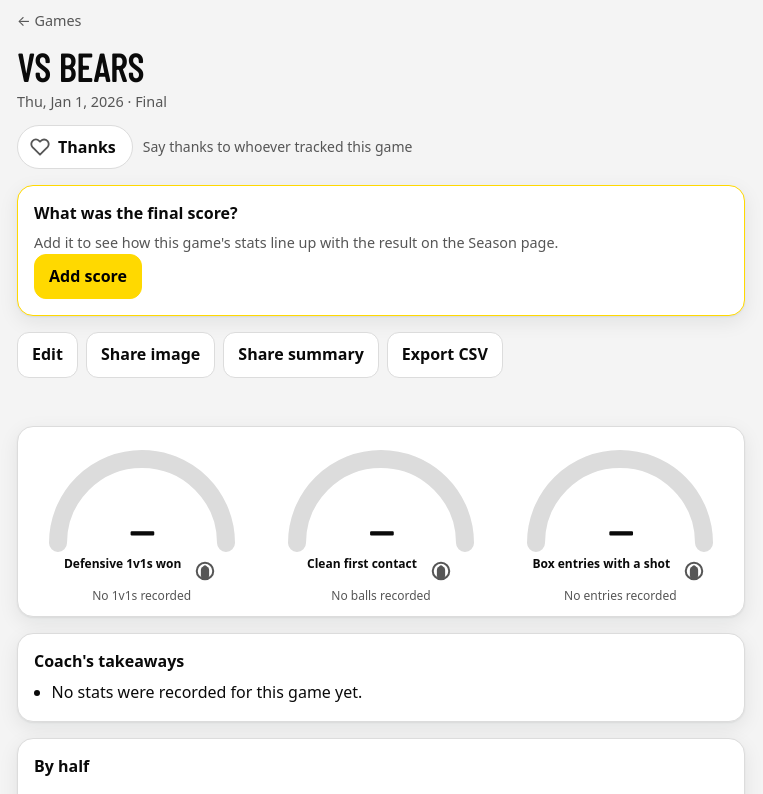
Test: GameSummaryPage › asks for the final score and saves it from the summary
This screenshot has width=763, height=794.
Click the button "Add score".
click(88, 277)  # box [34,254,142,299]
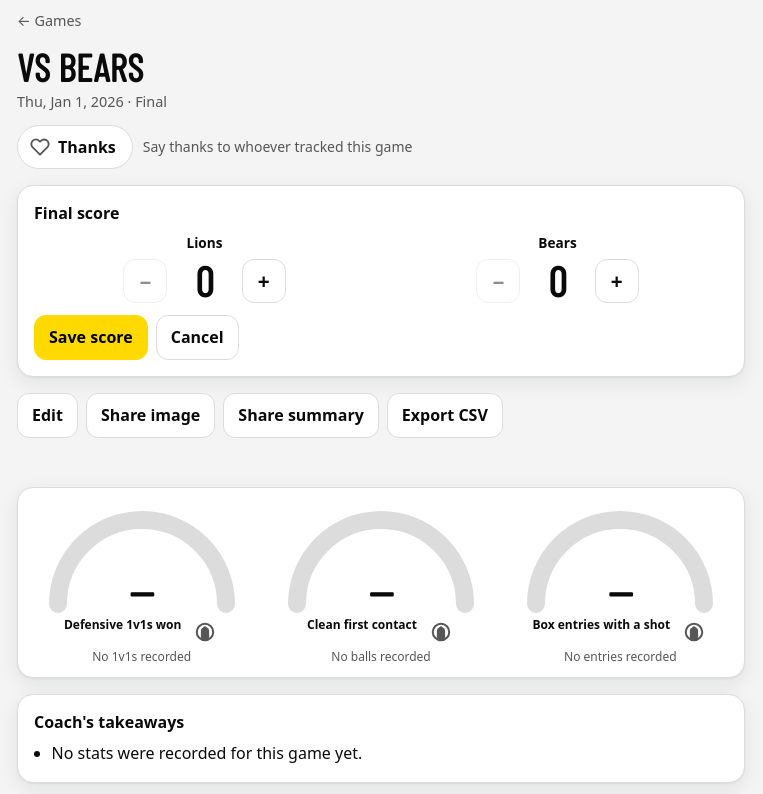
Click the button named "One more for Bears".
click(617, 281)  # box [595,259,639,303]
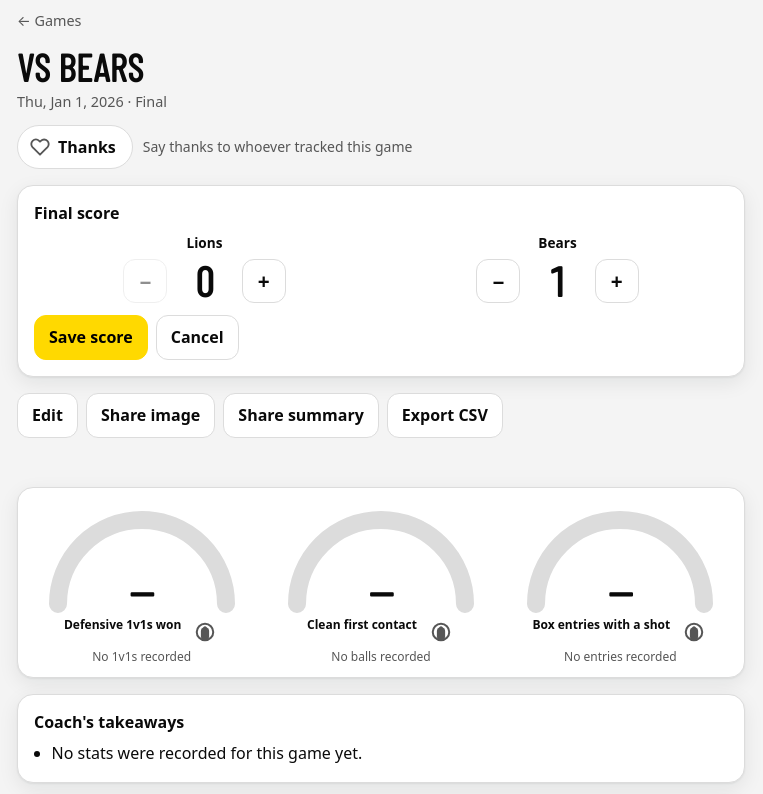
Click the button named "One more for Bears".
click(617, 281)  # box [595,259,639,303]
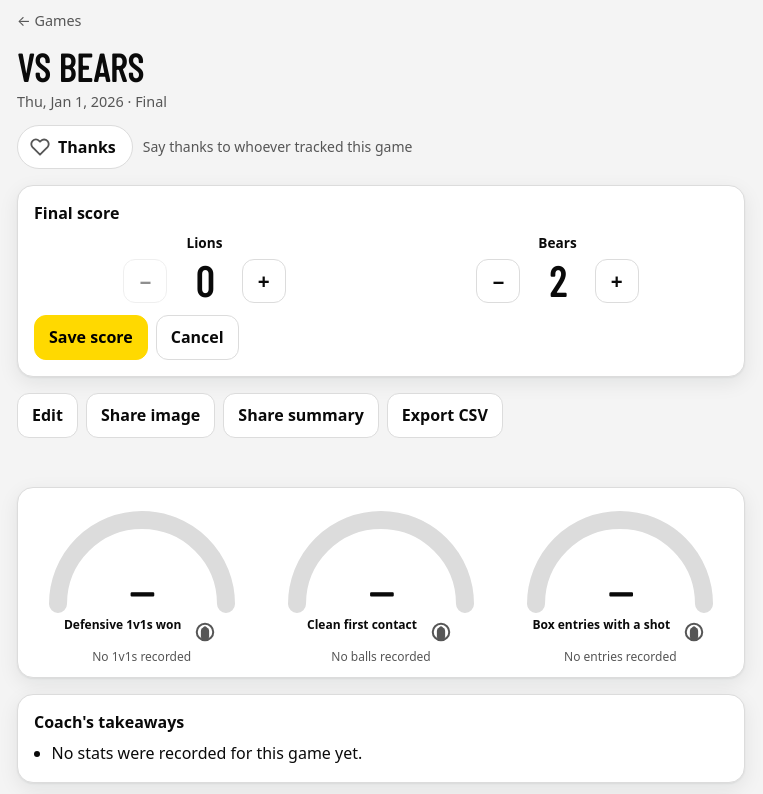
Click the button "+" below "Lions".
click(264, 281)  # box [242,259,286,303]
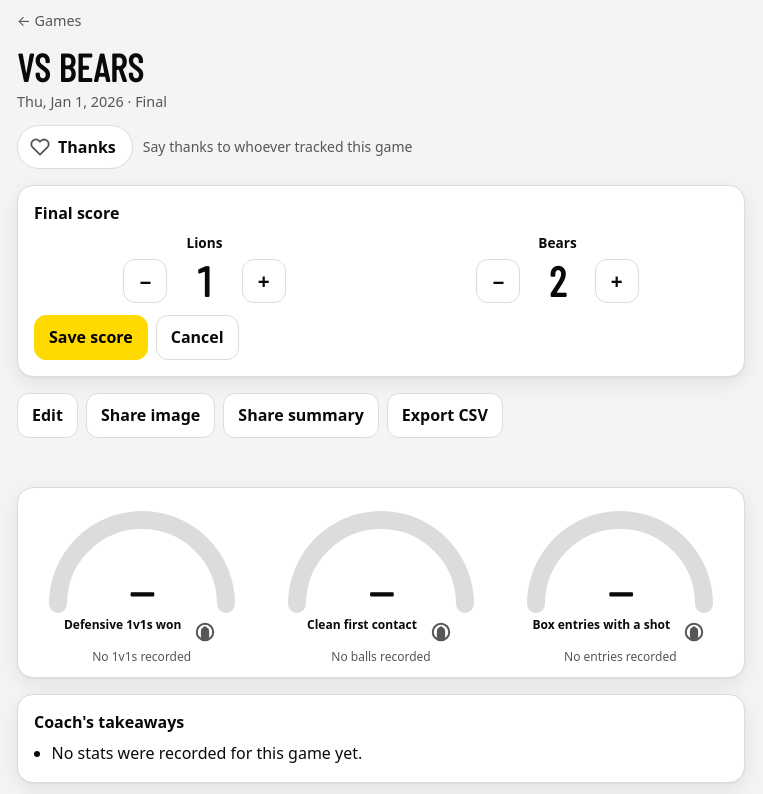
Click the button "Save score".
click(91, 338)  # box [34,315,148,360]
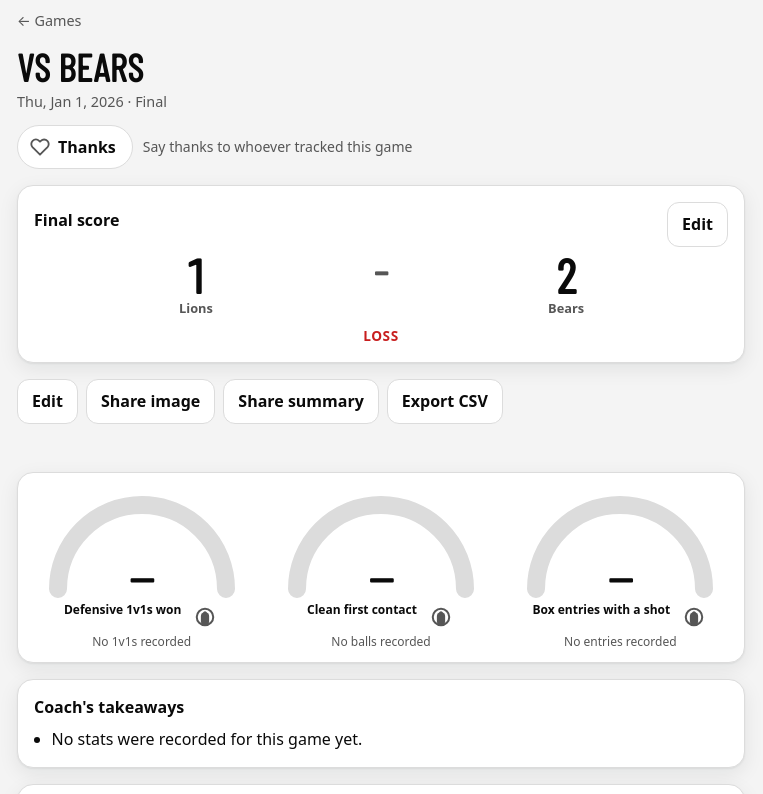
Expected: the text "Loss" is shown, [363,326,399,345]
Expected: the button with aria-label "Edit score" is shown, [667,202,728,247]
